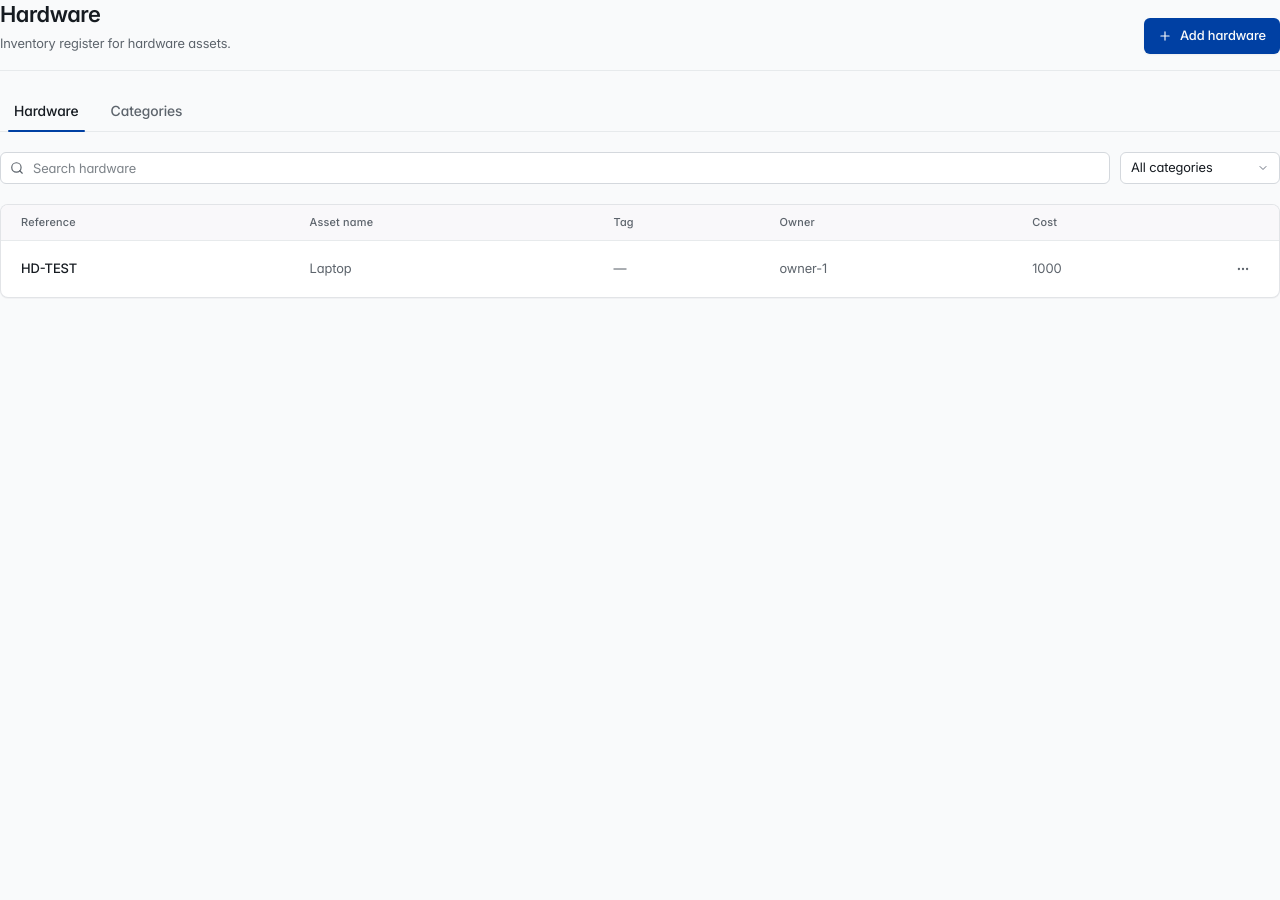
Test: AssetsCategoryPage › renders listed hardware assets and opens create sheet
This screenshot has width=1280, height=900.
Check: the text "Laptop" is shown, box [294,240,598,297]
Check: the text "HD-TEST" is shown, box [1,240,294,297]
What coordinates should you click on to do the following:
click the button named "actions for laptop"
I would click on:
 (1243, 269)
Its box is [1227,253,1259,285].
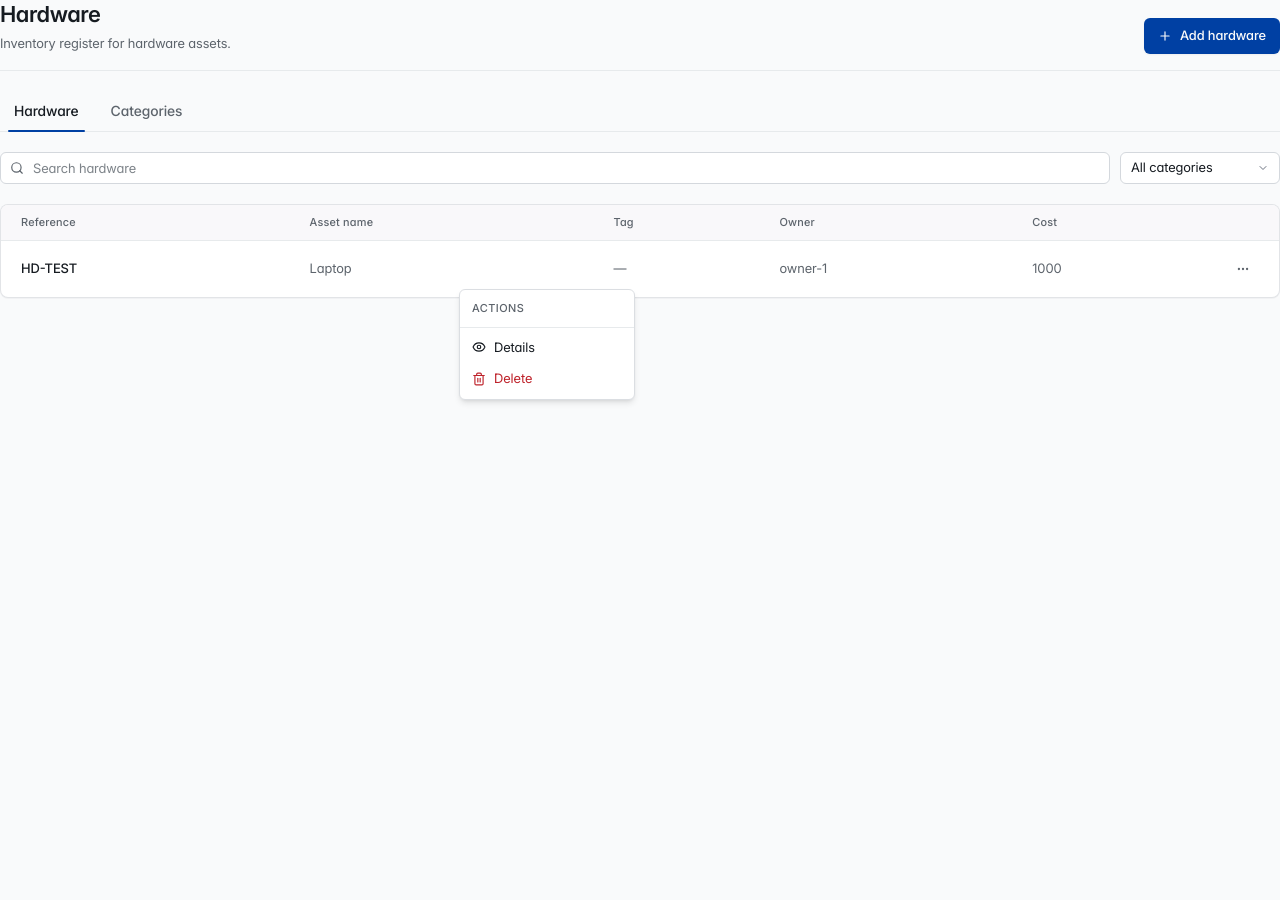
What coordinates should you click on to do the following:
click the menu item "Details"
I would click on:
 (503, 346)
Its box is [472,338,535,354].
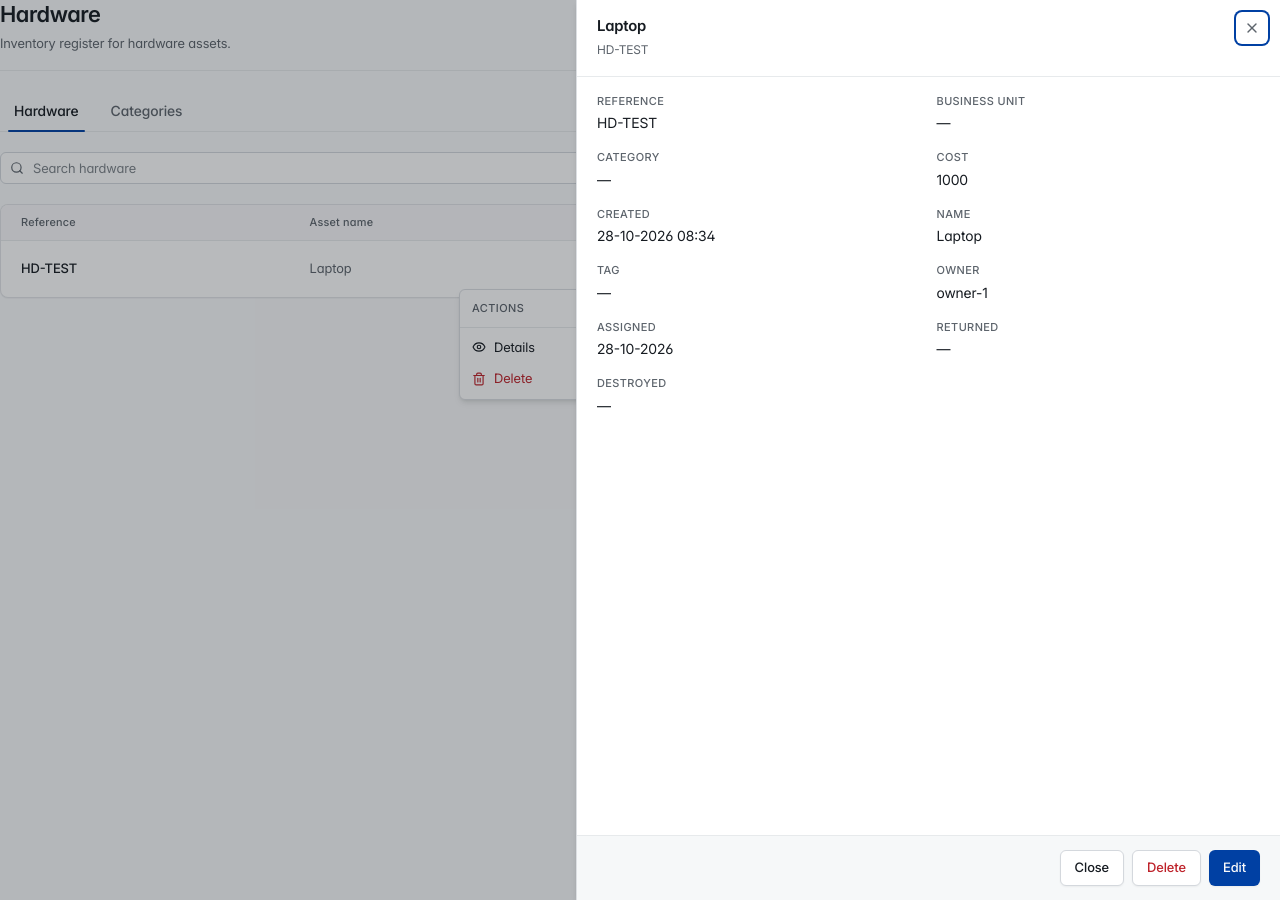
Check: the heading "Laptop" is shown, box [597,16,646,35]
Check: the button "Edit" is shown, box [1209,850,1260,886]
Check: the button "Delete" is shown, box [1132,850,1201,886]
